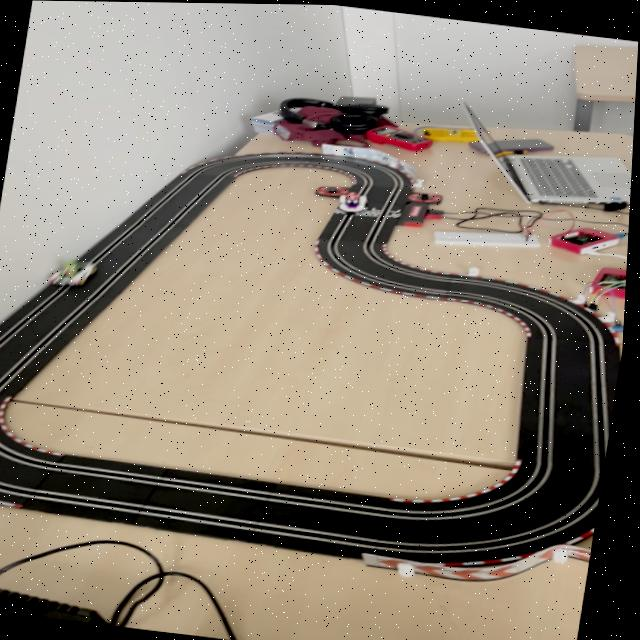mario: (335, 188, 374, 214)
yoshi: (48, 254, 105, 292)
